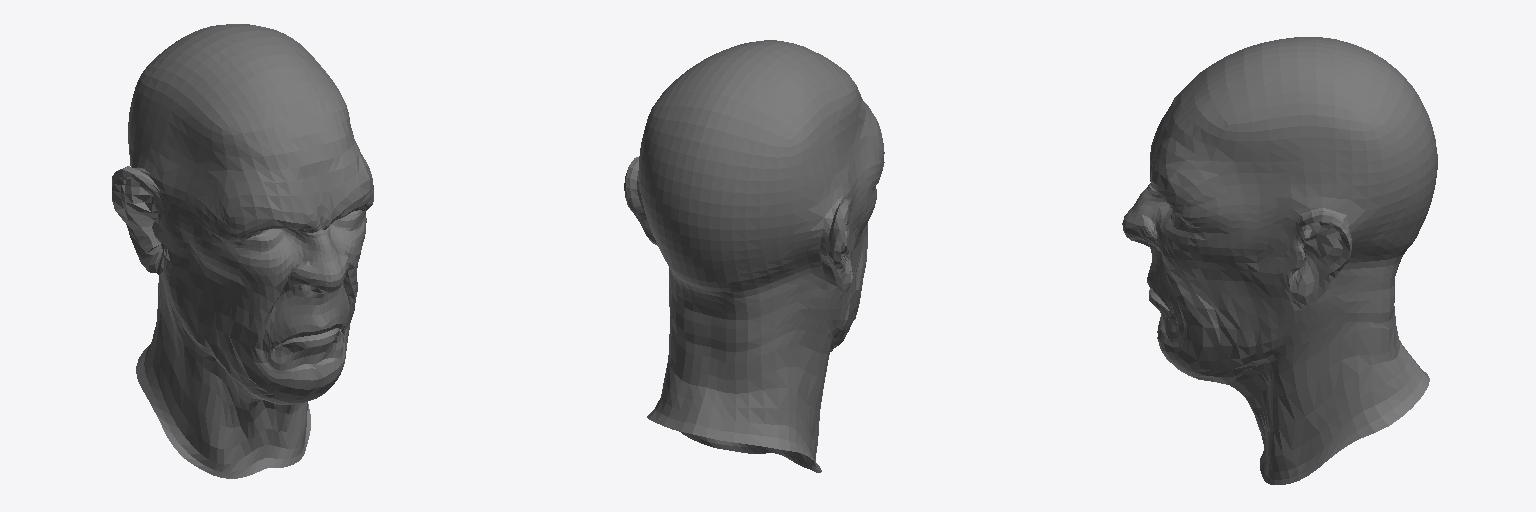
Rendered from Boris.obj.
3 renders of one model, left to right at view 1: azimuth 30°, elevation 25°; view 2: azimuth 150°, elevation 25°; view 3: azimuth 270°, elevation 25°, orthographic.
Visible parts, largest first — view 1: head headGRP Boris_Grp; view 2: head headGRP Boris_Grp; view 3: head headGRP Boris_Grp.
Boxes of the visible parts, x1=… form: head headGRP Boris_Grp: x1=112, y1=24, x2=373, y2=478; head headGRP Boris_Grp: x1=624, y1=40, x2=884, y2=472; head headGRP Boris_Grp: x1=1122, y1=37, x2=1437, y2=484.
Bounding box in the file's own units: 10.77 × 19.64 × 13.36.